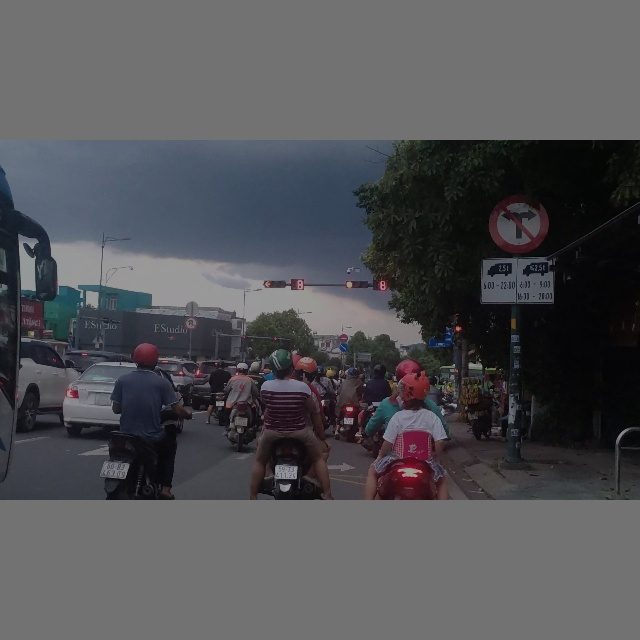P.102: (339, 334, 348, 343)
P.124a*: (184, 317, 198, 331)
P.137: (488, 194, 549, 255)
R.302a: (339, 343, 348, 352)
S.505a*Xe tai: (481, 258, 555, 304)
